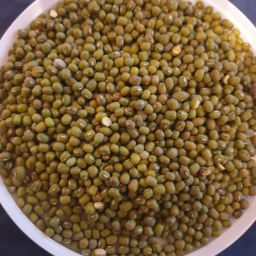Green gram dal(moong): (65, 8, 191, 249), (8, 102, 256, 204), (37, 23, 137, 239), (134, 2, 214, 248), (17, 18, 254, 100), (205, 11, 256, 233), (2, 58, 70, 221)
